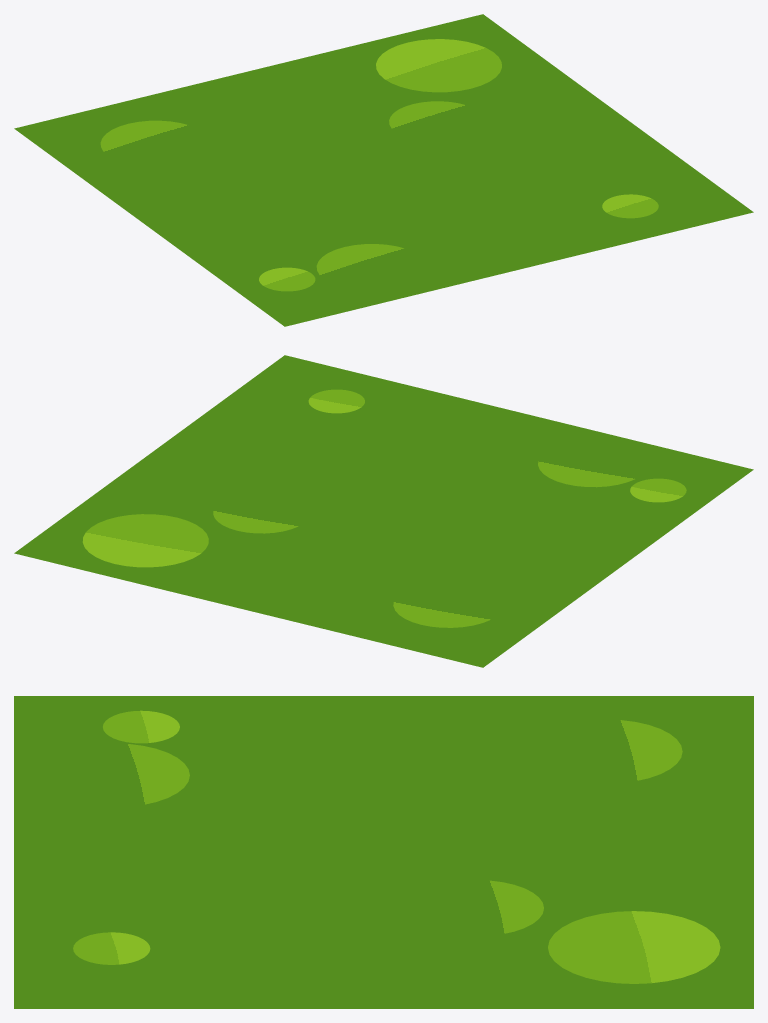
The model's file is Groundpanel_4.fbx.
3 views of the same model, one above another, from view 1: azimuth 30°, elevation 25°; view 2: azimuth 150°, elevation 25°; view 3: azimuth 270°, elevation 25° (orthographic). The views are drawn at different scales.
Visible parts, largest first — view 1: Circle.008; view 2: Circle.008; view 3: Circle.008.
Boxes of the visible parts, x1,y1,x2,y2 form: Circle.008: (14,14,753,326); Circle.008: (14,355,753,667); Circle.008: (14,696,753,1008).
Size of the model in its own units: 200 by 0.9912 by 200.
